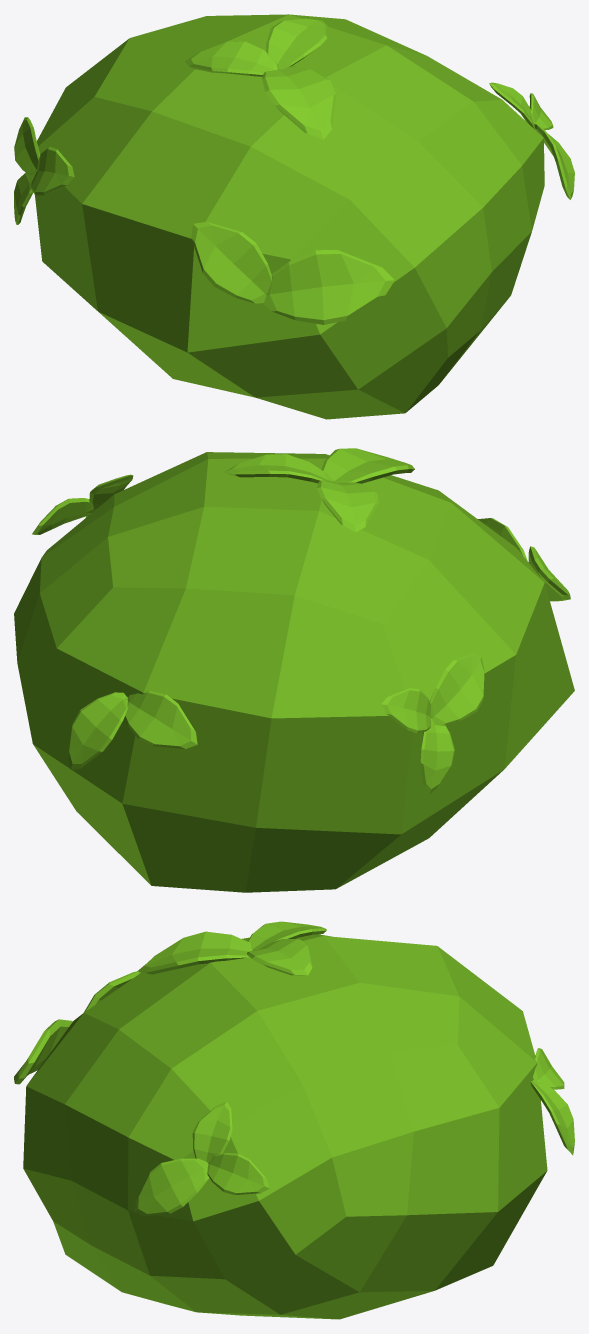
Rendered from SM_Bush_2.fbx.
3 views of the same model, one above another, from view 1: azimuth 30°, elevation 25°; view 2: azimuth 150°, elevation 25°; view 3: azimuth 270°, elevation 25° (orthographic). The views are drawn at different scales.
Visible parts, largest first — view 1: SM_Bush_2_LOD0; view 2: SM_Bush_2_LOD0; view 3: SM_Bush_2_LOD0.
Part boxes in pixels (left/top/right/bottom): SM_Bush_2_LOD0: left=14, top=14, right=574, bottom=419; SM_Bush_2_LOD0: left=14, top=448, right=574, bottom=892; SM_Bush_2_LOD0: left=14, top=921, right=574, bottom=1319.
Bounding box in the file's own units: 214 × 229 × 156.
Materials: 1 (1 with a texture image).
